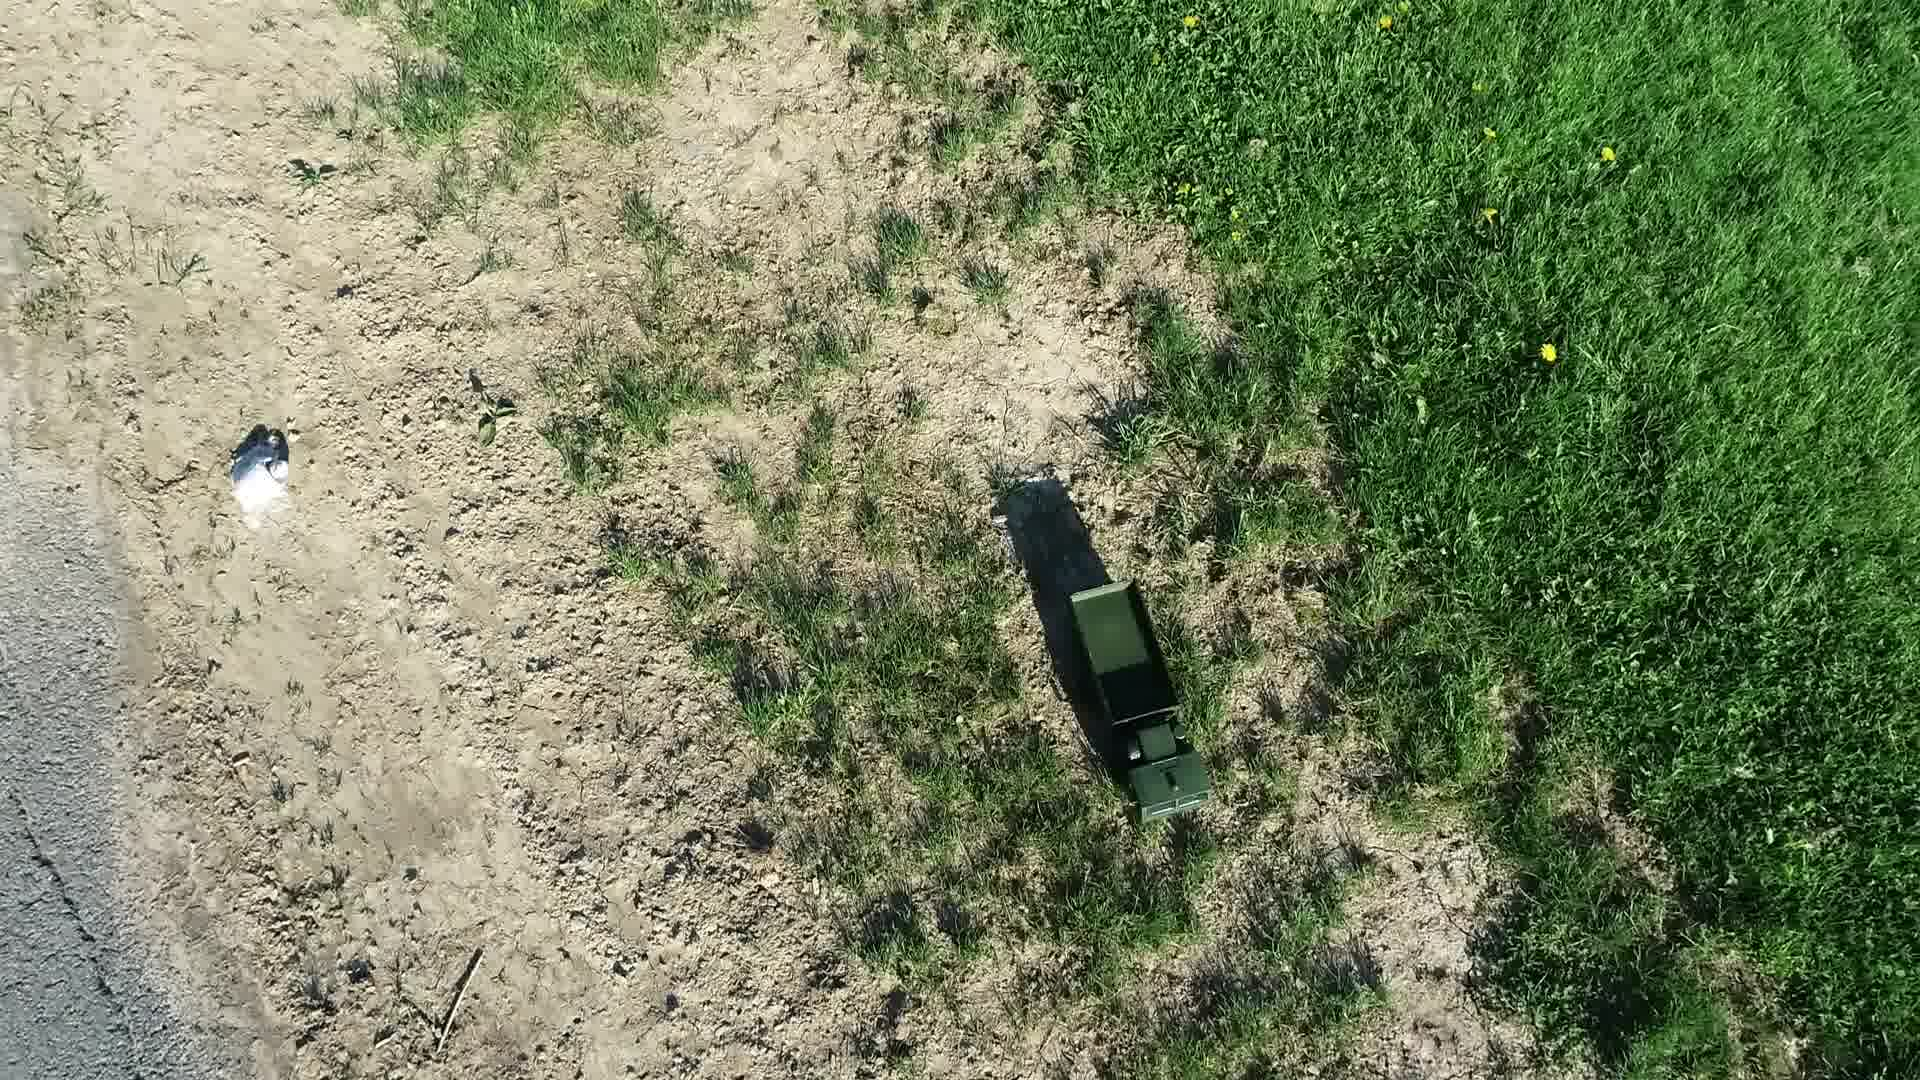transporter9: (1043, 564, 1229, 831)
